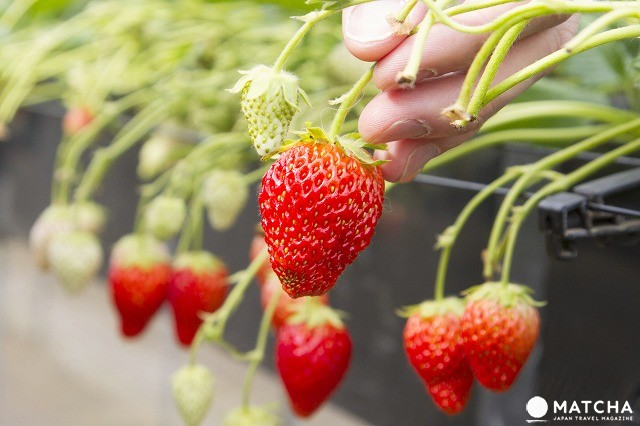ripe: (259, 135, 385, 302), (399, 292, 484, 421), (269, 303, 357, 419), (111, 232, 172, 342), (168, 249, 233, 345)
unripe: (461, 274, 542, 403), (233, 71, 300, 158), (31, 204, 105, 269), (49, 225, 102, 296), (170, 362, 219, 424), (204, 168, 246, 231)
